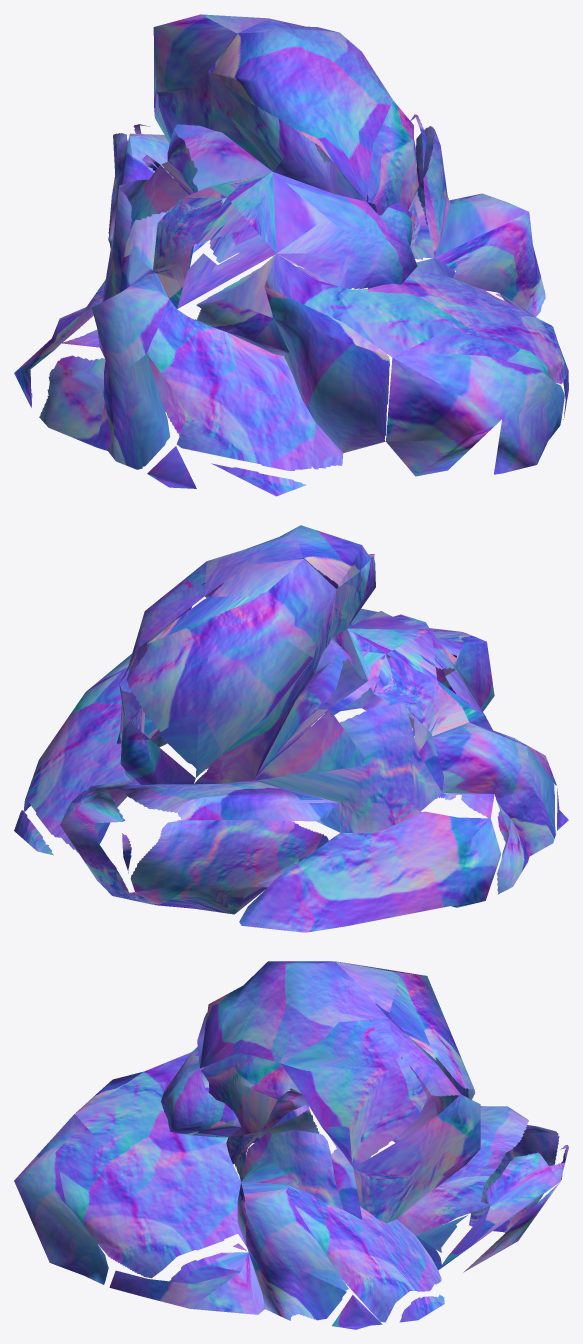
3 views of the same model, one above another, from view 1: azimuth 30°, elevation 25°; view 2: azimuth 150°, elevation 25°; view 3: azimuth 270°, elevation 25° (orthographic). The views are drawn at different scales.
Parts seen in each view (by area): view 1: Optimized_Object14_0_85; view 2: Optimized_Object14_0_85; view 3: Optimized_Object14_0_85.
Part boxes in pixels (left/top/right/bottom): Optimized_Object14_0_85: left=14, top=14, right=568, bottom=496; Optimized_Object14_0_85: left=14, top=525, right=568, bottom=932; Optimized_Object14_0_85: left=14, top=961, right=568, bottom=1329.
Bounding box in the file's own units: 586 × 374 × 712.
